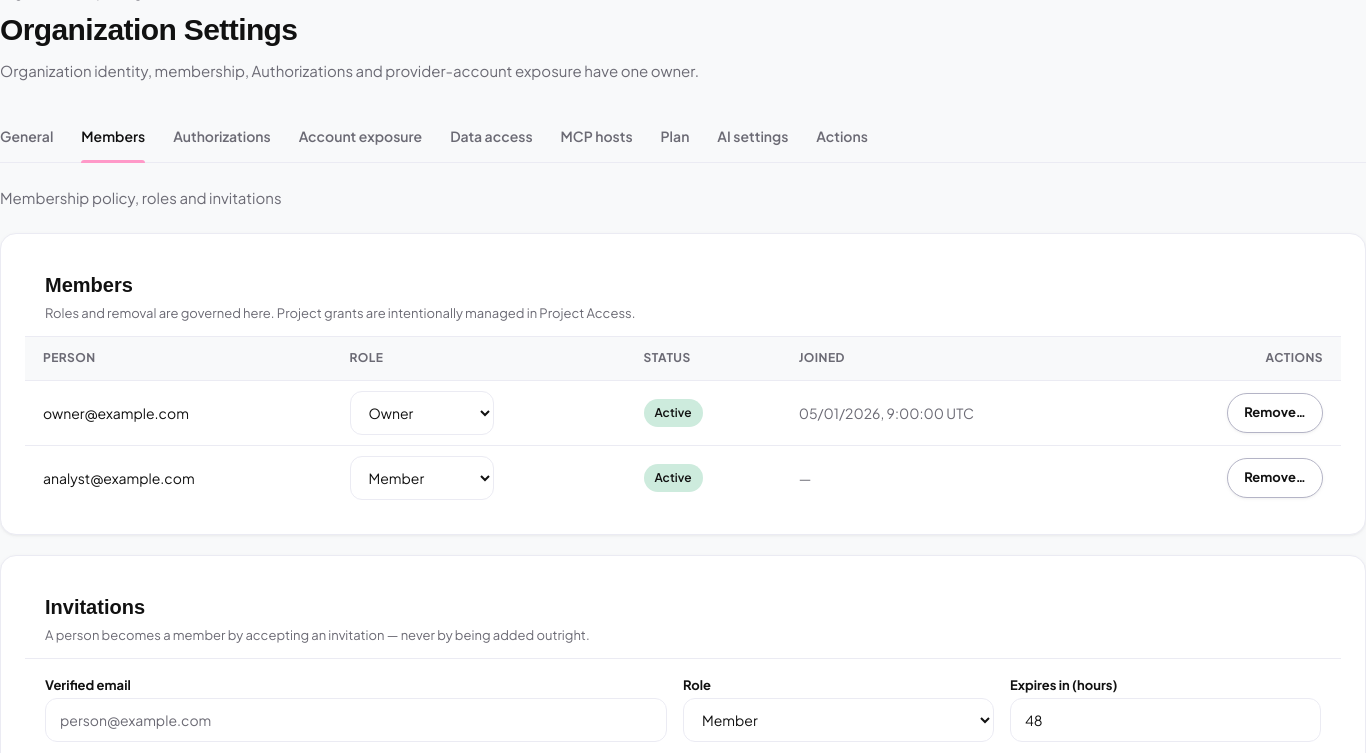
Scenario: Members — invitations › refuses a malformed grant at the field instead of posting it
Type "newcomer@example.com" into the field with test id "invite-identity".
click(356, 720); type("newcomer@example.com")  # box [45,698,667,742]
(page scrolled)
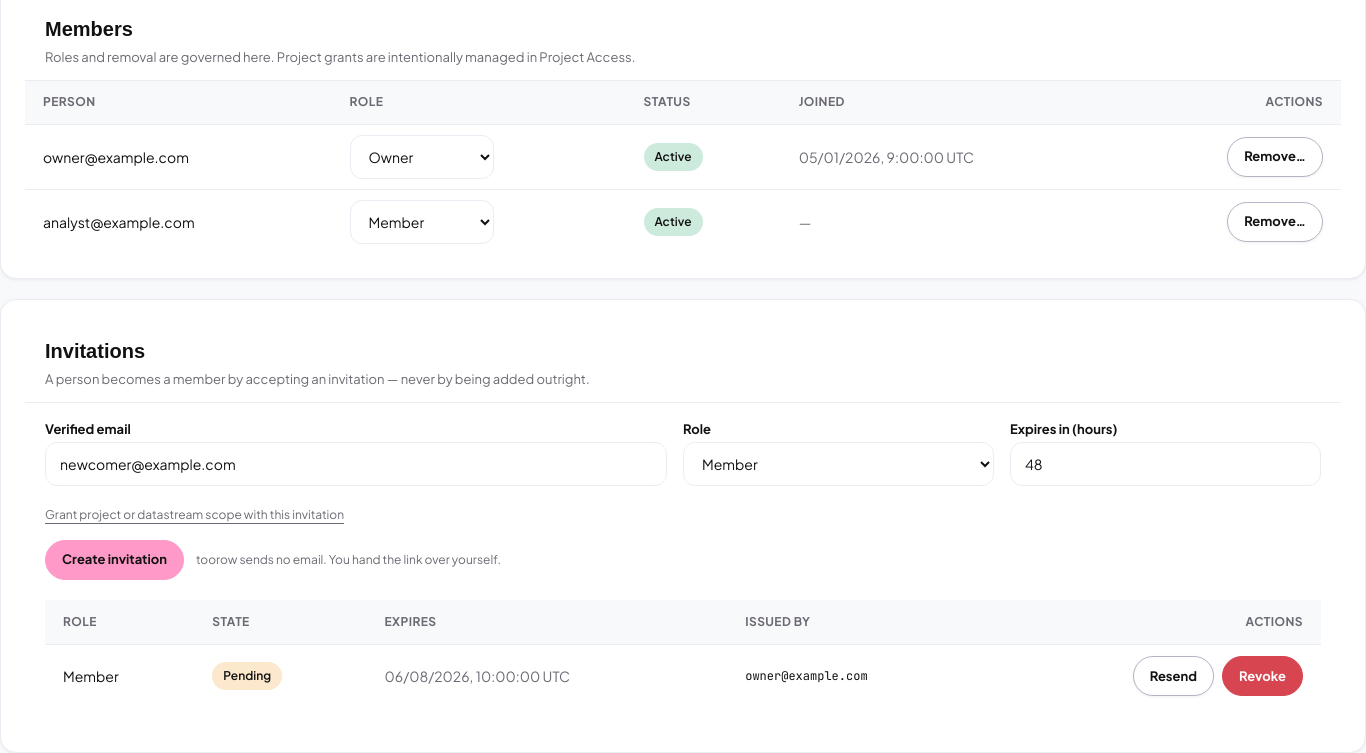
Click the button "Grant project or datastream scope with this invitation".
click(195, 514)  # box [45,506,344,524]
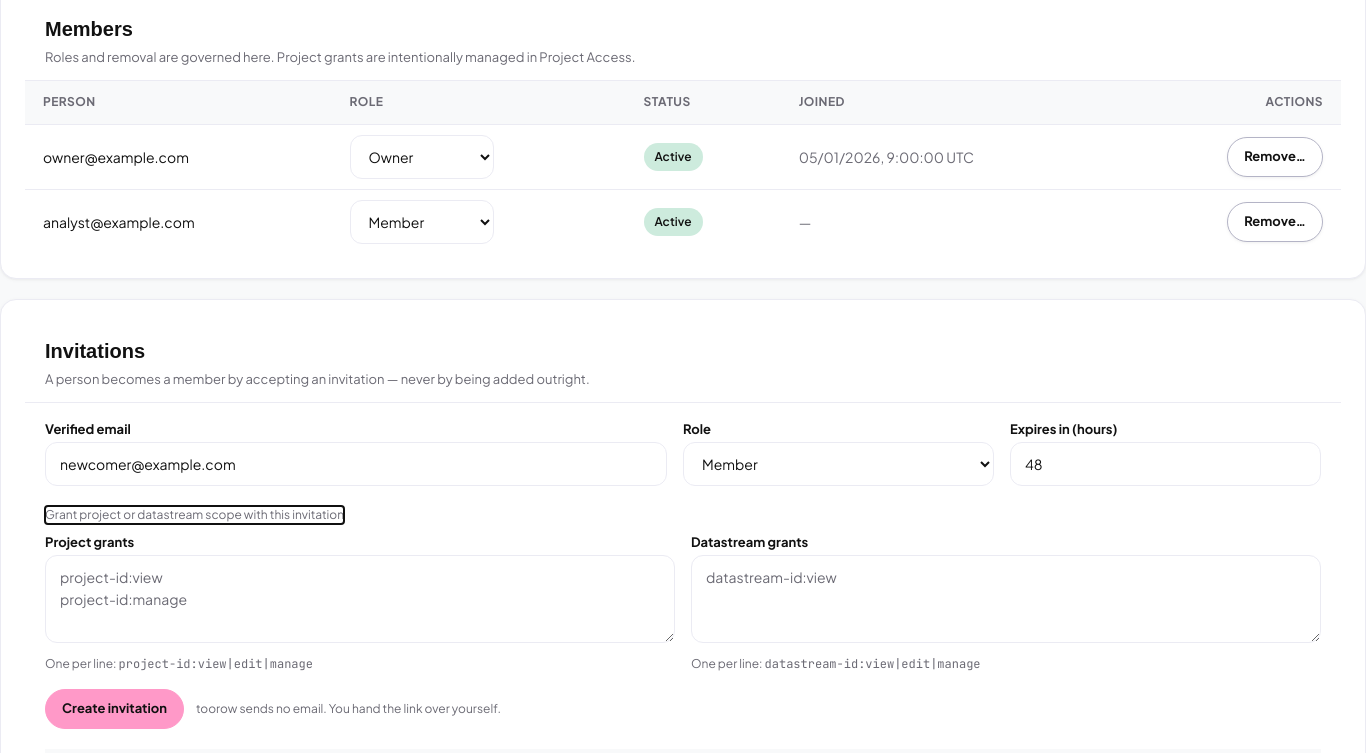
Type "proj_EXAMPLE:owner" into the text box labelled "Project grants".
click(360, 599); type("proj_EXAMPLE:owner")  # box [45,555,675,643]
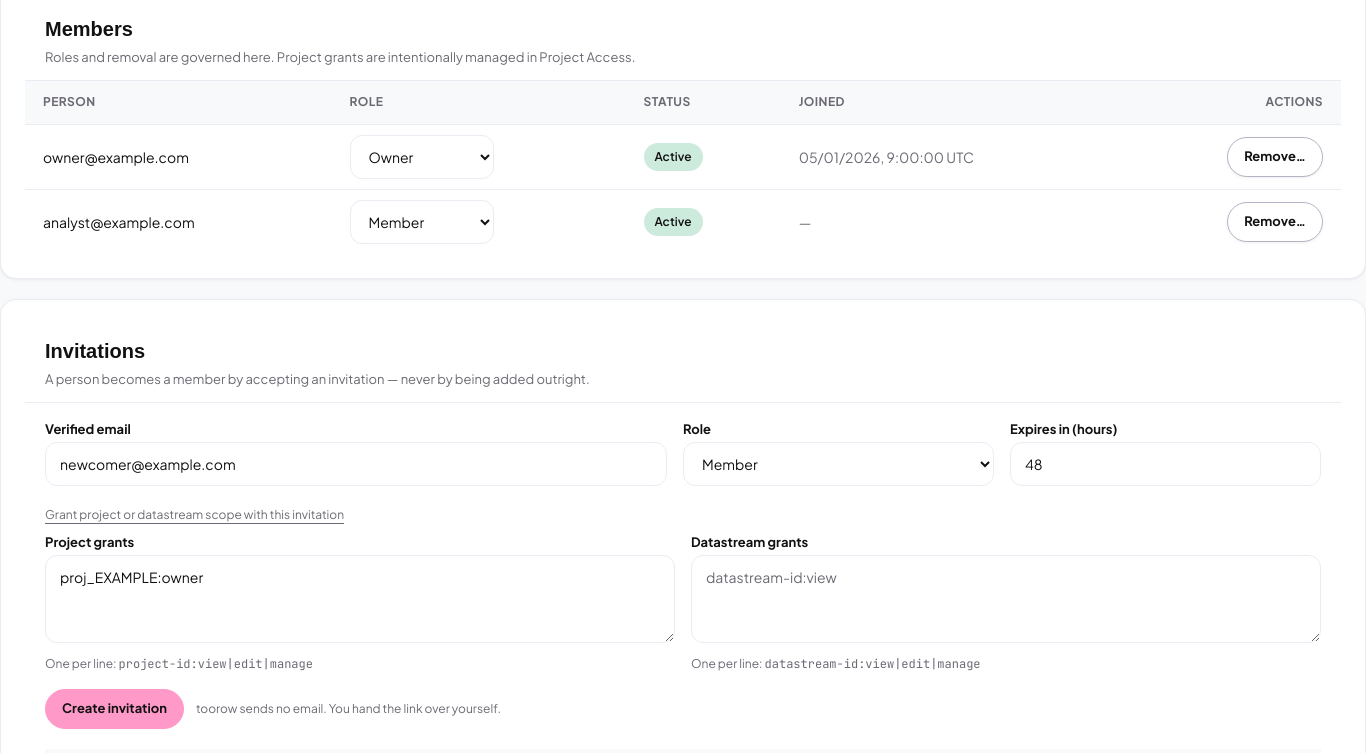
Click the button with test id "invite-submit".
click(114, 708)  # box [45,688,184,728]
(page scrolled)
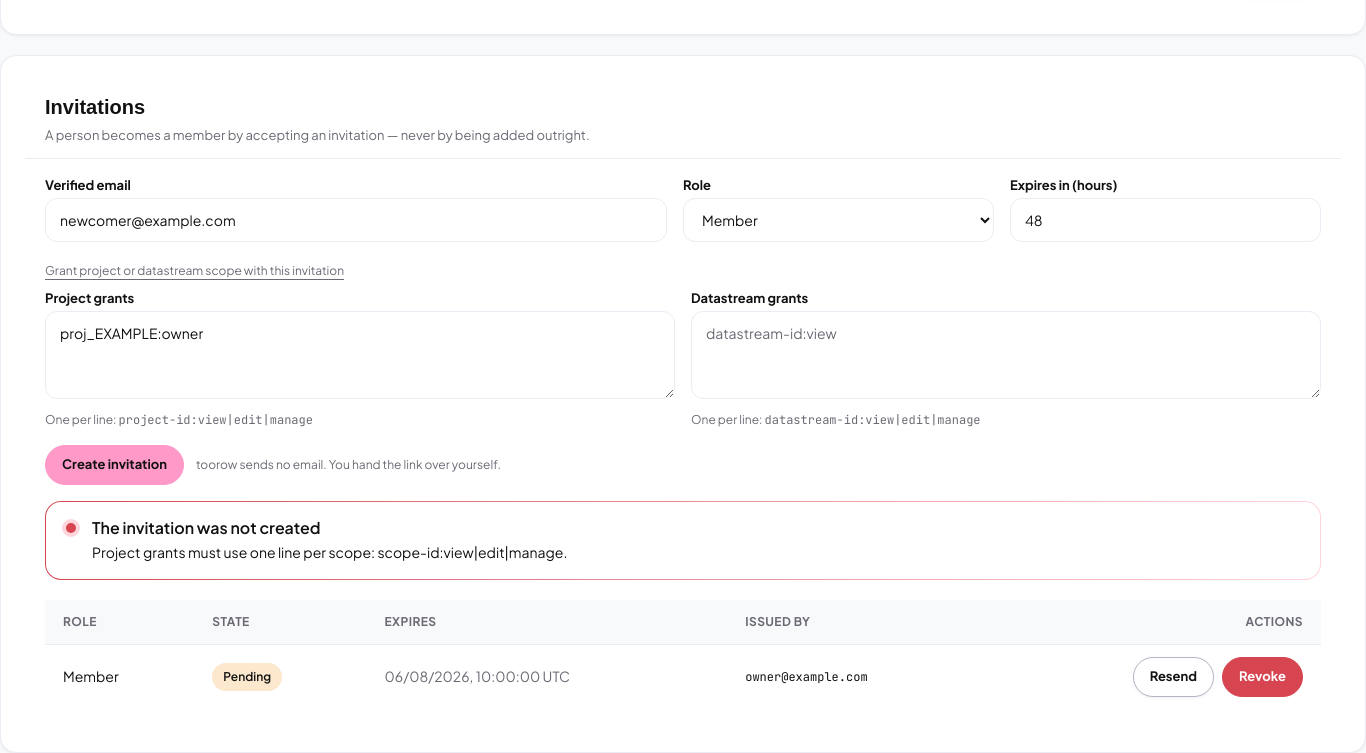
Now the message with test id "invite-error" shows "view|edit|manage", box [92,543,567,561]
